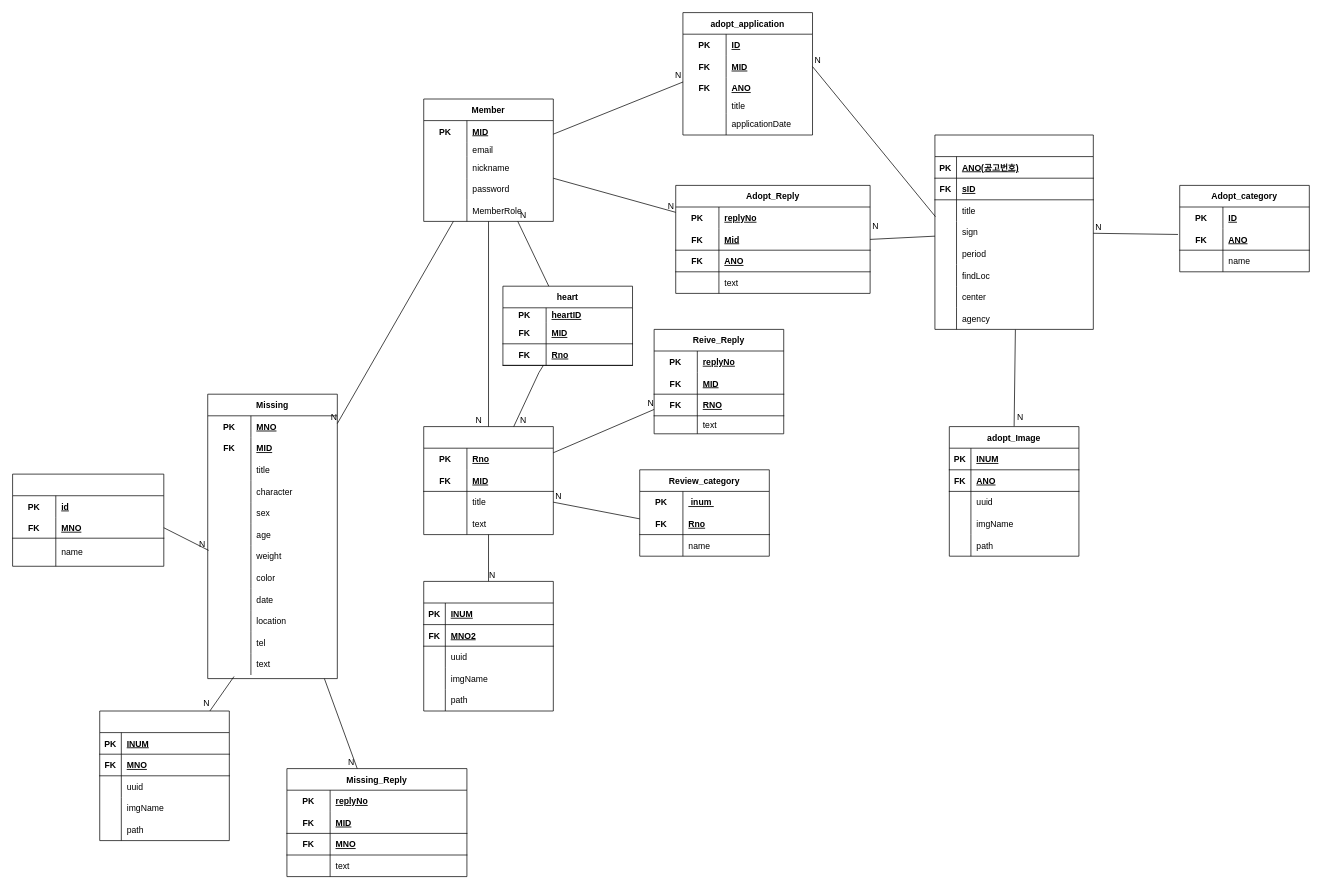
Image size: 1322x889. Some labels were removed from this diagram. The shapes that lost their labels are listed below. From the top down, each one's box as (x1, y1, x2, y2) in pixels, then its label:
(934, 134, 1093, 329): Adopt
(423, 426, 553, 535): Review
(12, 473, 164, 566): Missing_category
(423, 581, 553, 711): Review_Image
(99, 710, 229, 841): Missing_Image
